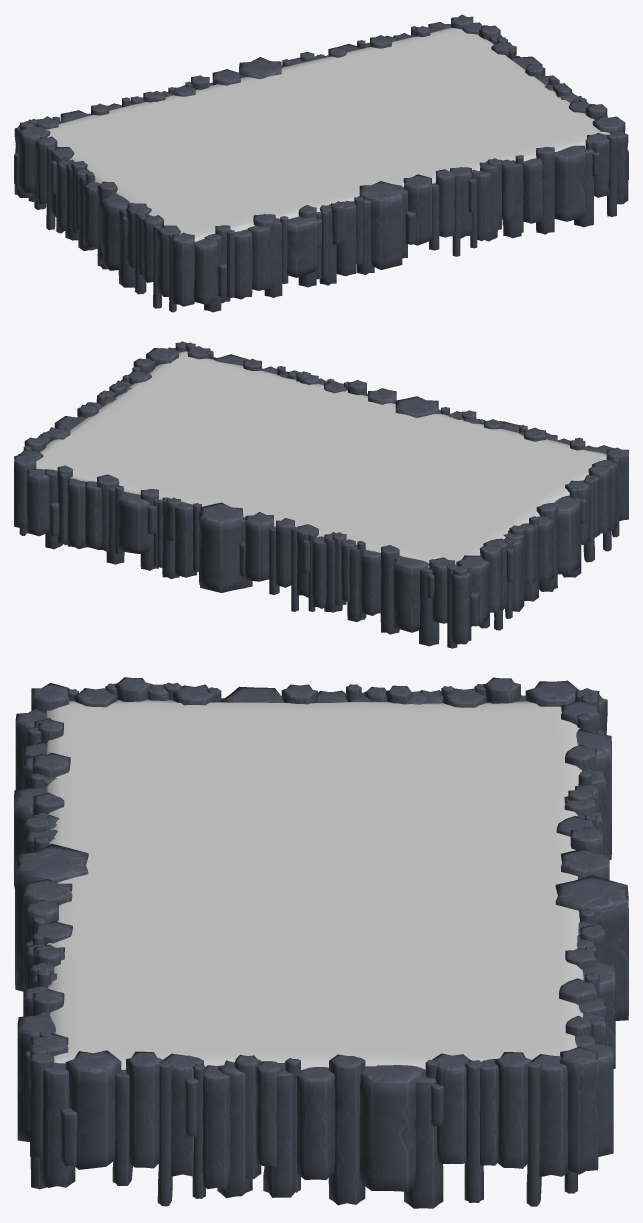
The model's file is LandMain.fbx.
3 views of the same model, one above another, from view 1: azimuth 30°, elevation 25°; view 2: azimuth 150°, elevation 25°; view 3: azimuth 270°, elevation 25° (orthographic). The views are drawn at different scales.
Parts seen in each view (by area): view 1: LandLo:ZBrush_defualt_group, pCylinderShape191, pCylinderShape195; view 2: LandLo:ZBrush_defualt_group, pCylinderShape191, pCylinderShape195; view 3: LandLo:ZBrush_defualt_group, pCylinderShape191, pCylinderShape195.
Part boxes in pixels (x1=…): LandLo:ZBrush_defualt_group: x1=45, y1=27, x2=610, y2=241; pCylinderShape191: x1=14, y1=22, x2=628, y2=312; pCylinderShape195: x1=14, y1=14, x2=628, y2=304; LandLo:ZBrush_defualt_group: x1=36, y1=351, x2=606, y2=567; pCylinderShape191: x1=18, y1=341, x2=628, y2=648; pCylinderShape195: x1=14, y1=342, x2=617, y2=630; LandLo:ZBrush_defualt_group: x1=46, y1=699, x2=583, y2=1070; pCylinderShape191: x1=14, y1=677, x2=628, y2=1208; pCylinderShape195: x1=15, y1=680, x2=609, y2=1198.
Size of the model in its own units: 2235 by 384 by 1467.
